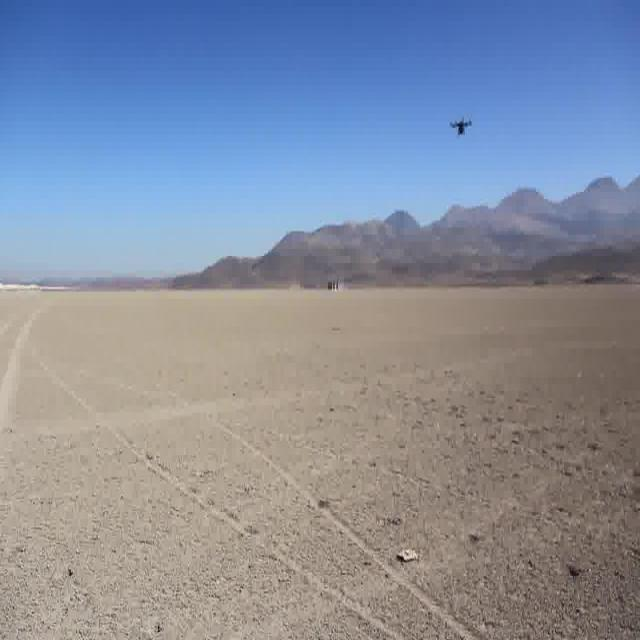drone: (448, 110, 472, 138)
